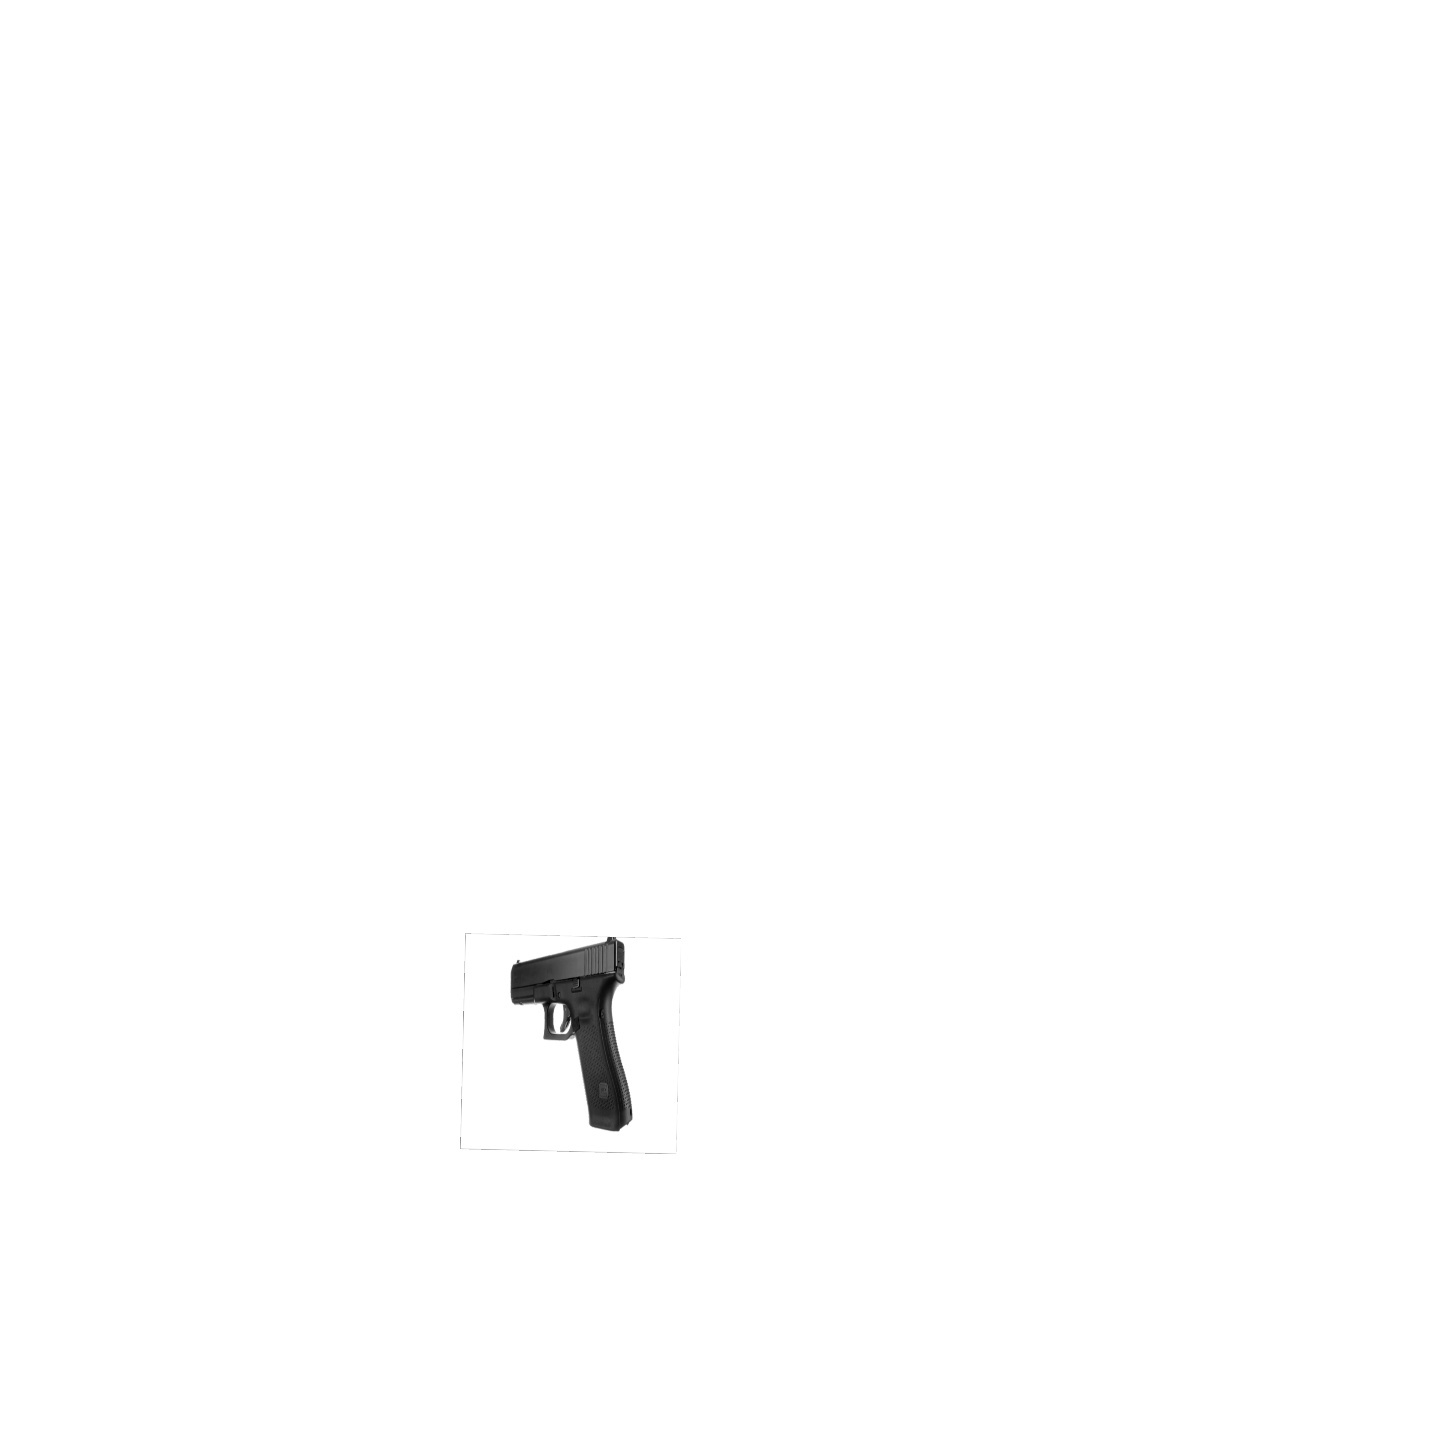gun: (500, 936, 649, 1140)
